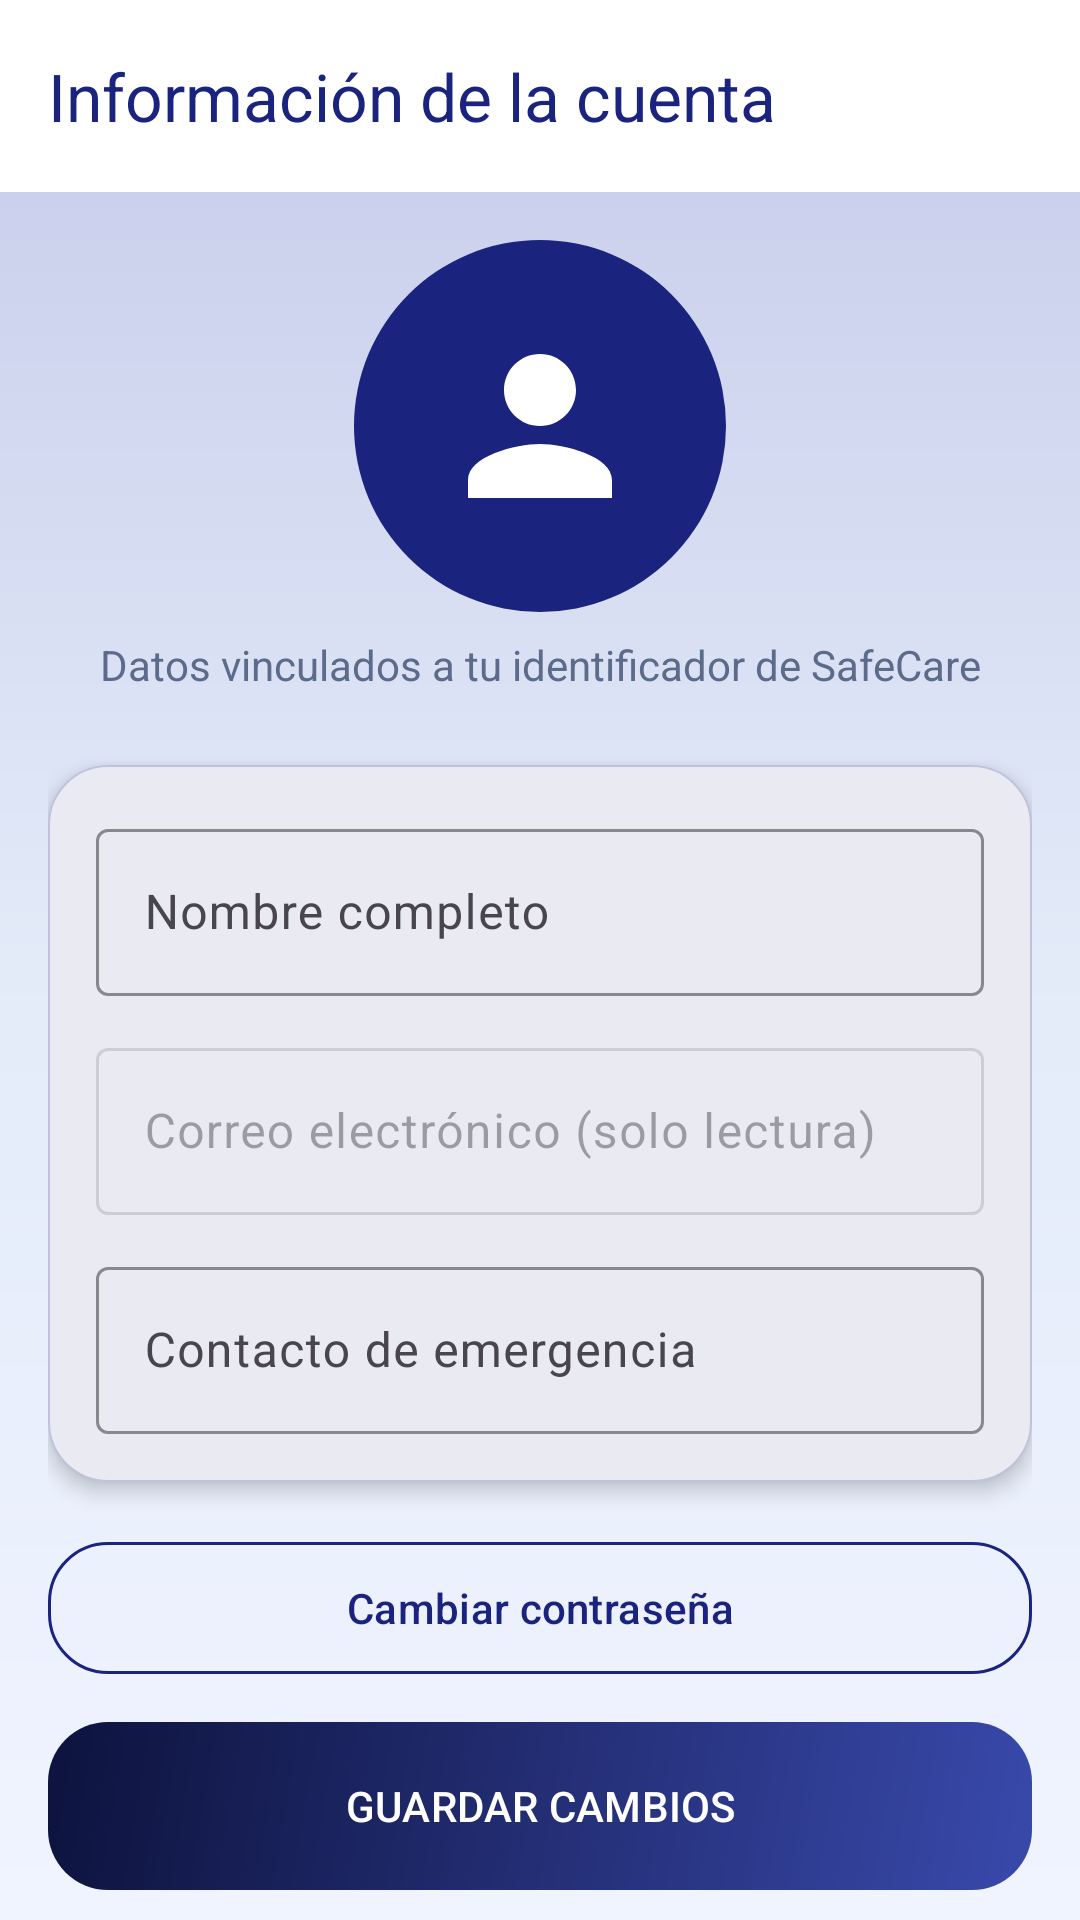

Icon bounding boxes for this 1080px x 1920px phone screenshot, format bbox=[x1, y1, x2, y2]:
cuenta usuario perfil: bbox=[360, 246, 720, 606]
